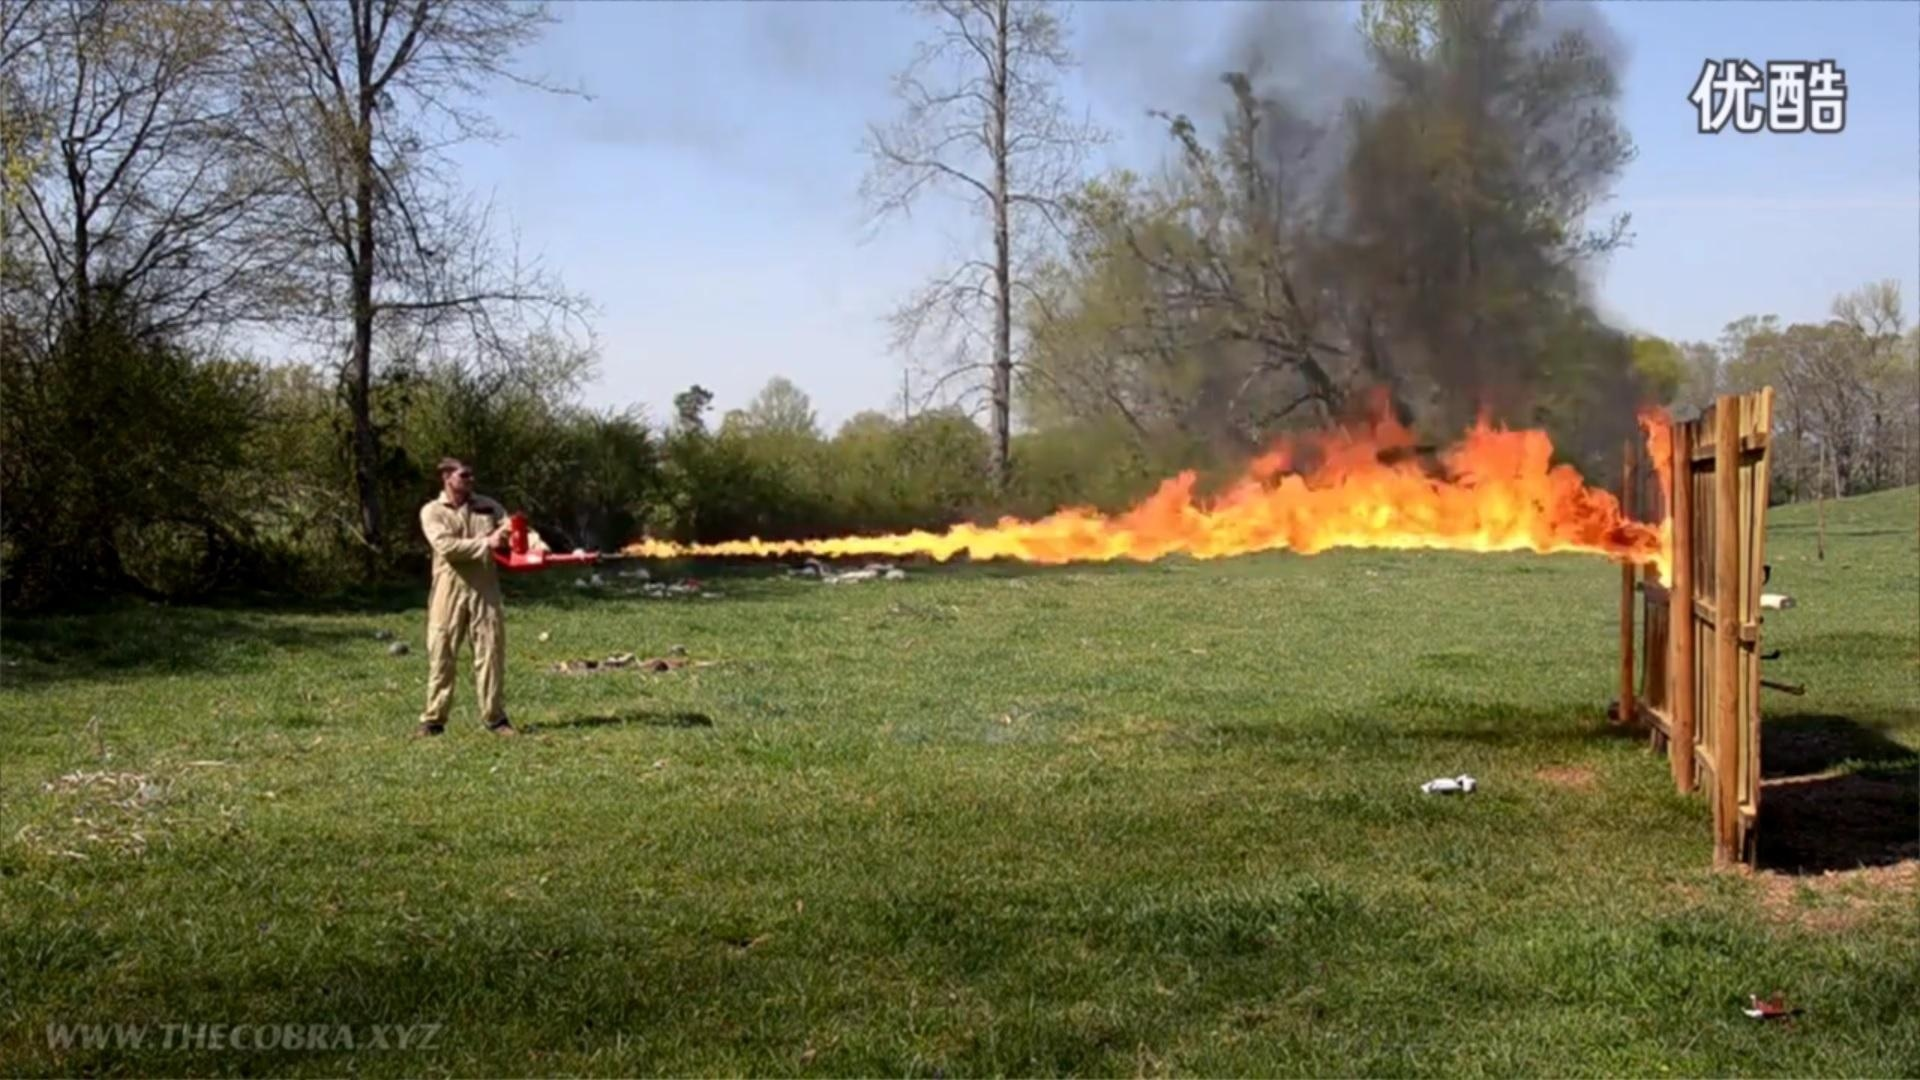fire: (493, 393, 1691, 621)
